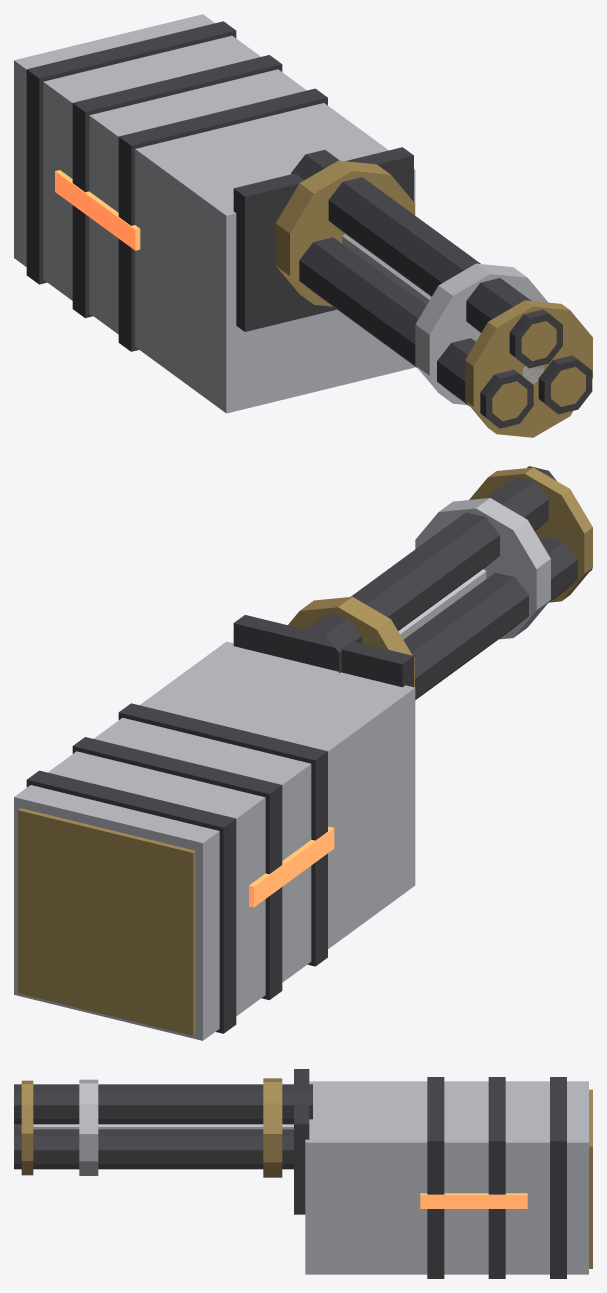
File: warbull-launcher.glb
3 renders of one model, top to bottom at view 1: azimuth 30°, elevation 25°; view 2: azimuth 150°, elevation 25°; view 3: azimuth 270°, elevation 25°, orthographic. The views are drawn at different scales.
Visible parts, largest first — view 1: WarbullLauncher, Barrels; view 2: WarbullLauncher, Barrels; view 3: WarbullLauncher, Barrels.
Boxes of the visible parts, <box> form: WarbullLauncher: <box>14,14,415,413</box>; Barrels: <box>275,150,592,437</box>; WarbullLauncher: <box>14,615,415,1040</box>; Barrels: <box>288,466,592,699</box>; WarbullLauncher: <box>294,1069,592,1278</box>; Barrels: <box>14,1078,312,1177</box>.
Bounding box in the file's own units: 0.2 × 0.237 × 0.755.
